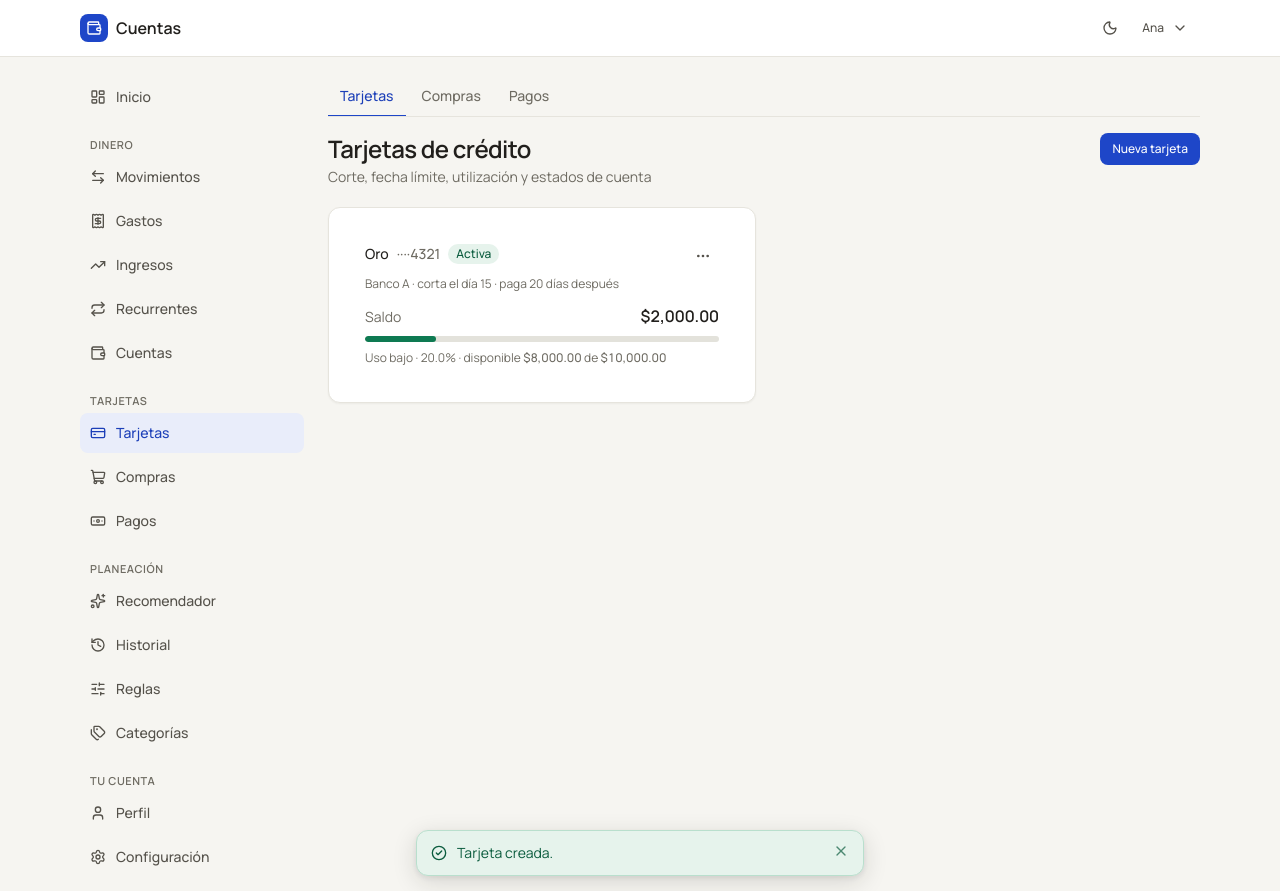
Test: tarjetas › reinicia una tarjeta con motivo y avisa el resultado
Click the button named "Más acciones de Oro" at (703, 256), box [687,240,719,272]
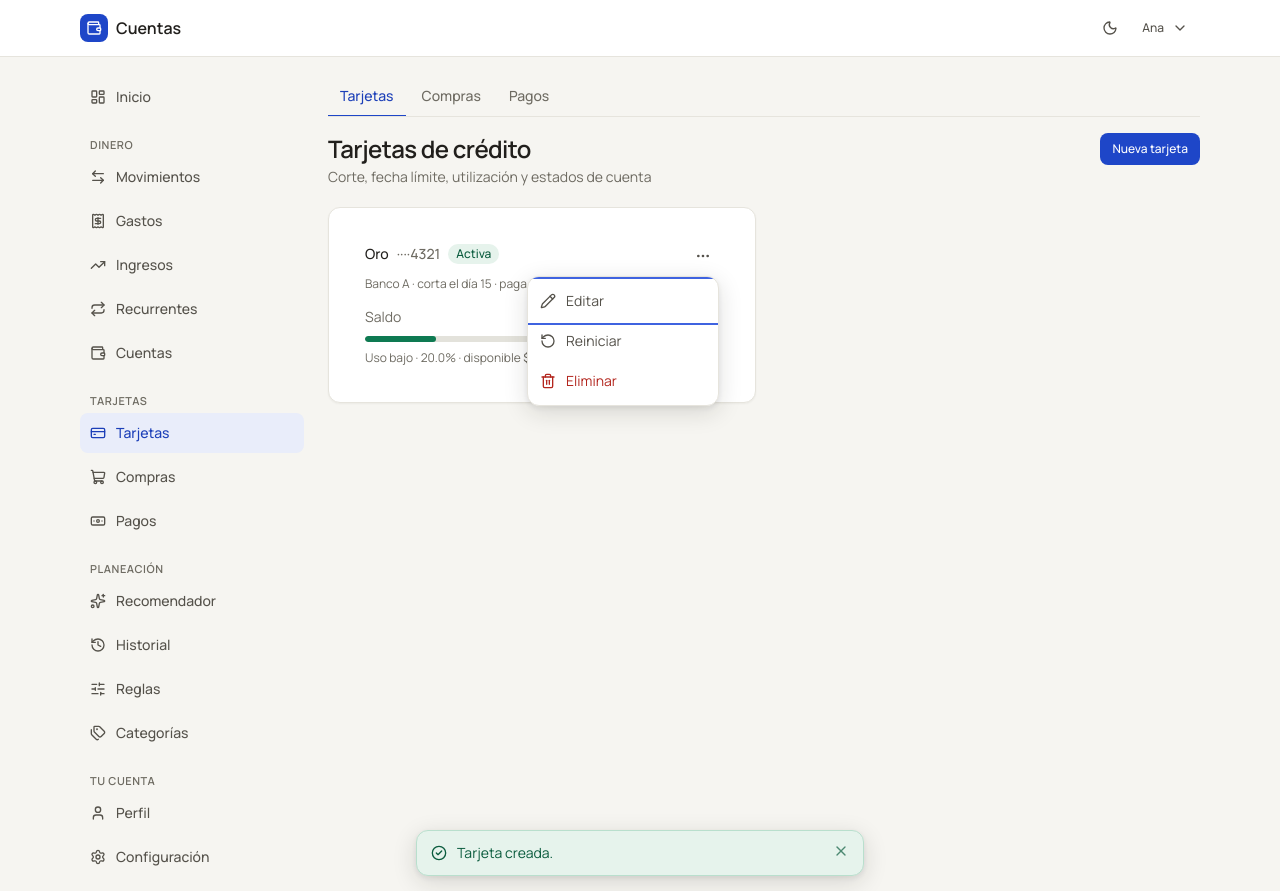
Click the menu item "Reiniciar" at (623, 341), box [528,321,718,361]
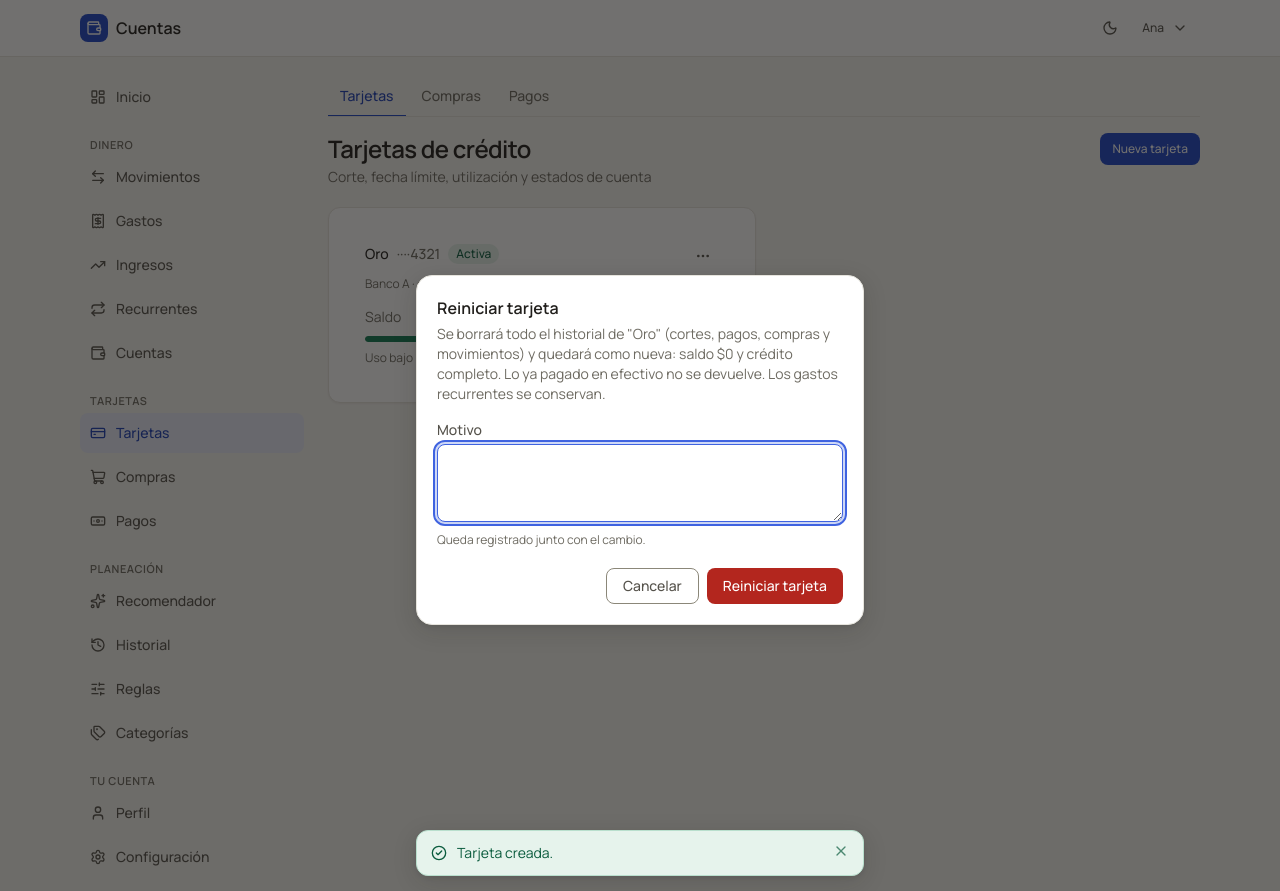
Check: the text "saldo $0 y crédito completo" is shown, box [437,324,838,403]
Type "Tarjeta de pruebas" into the text box labelled "Motivo" at (640, 483), box [437,444,843,522]
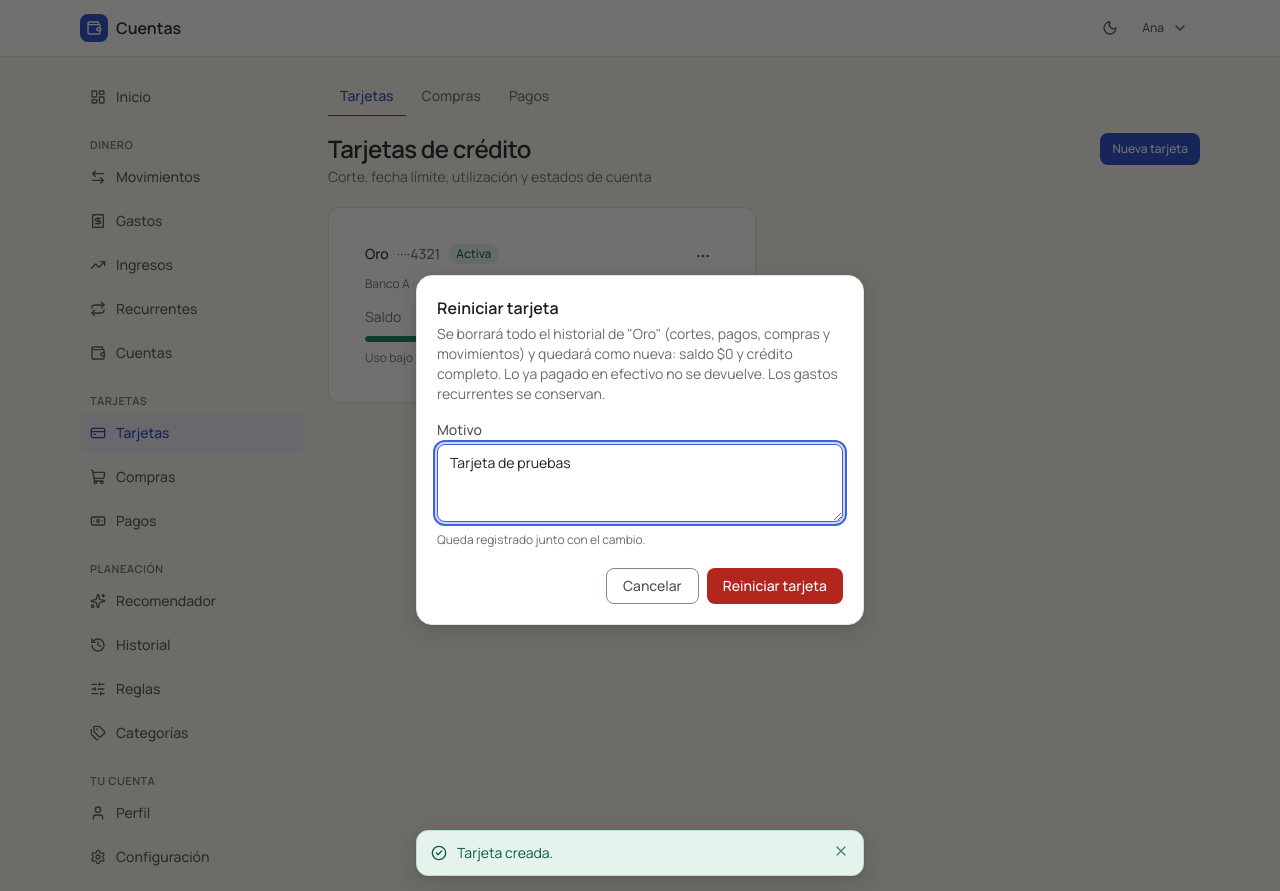
Click the button "Reiniciar tarjeta" at (775, 586), box [707,568,843,604]
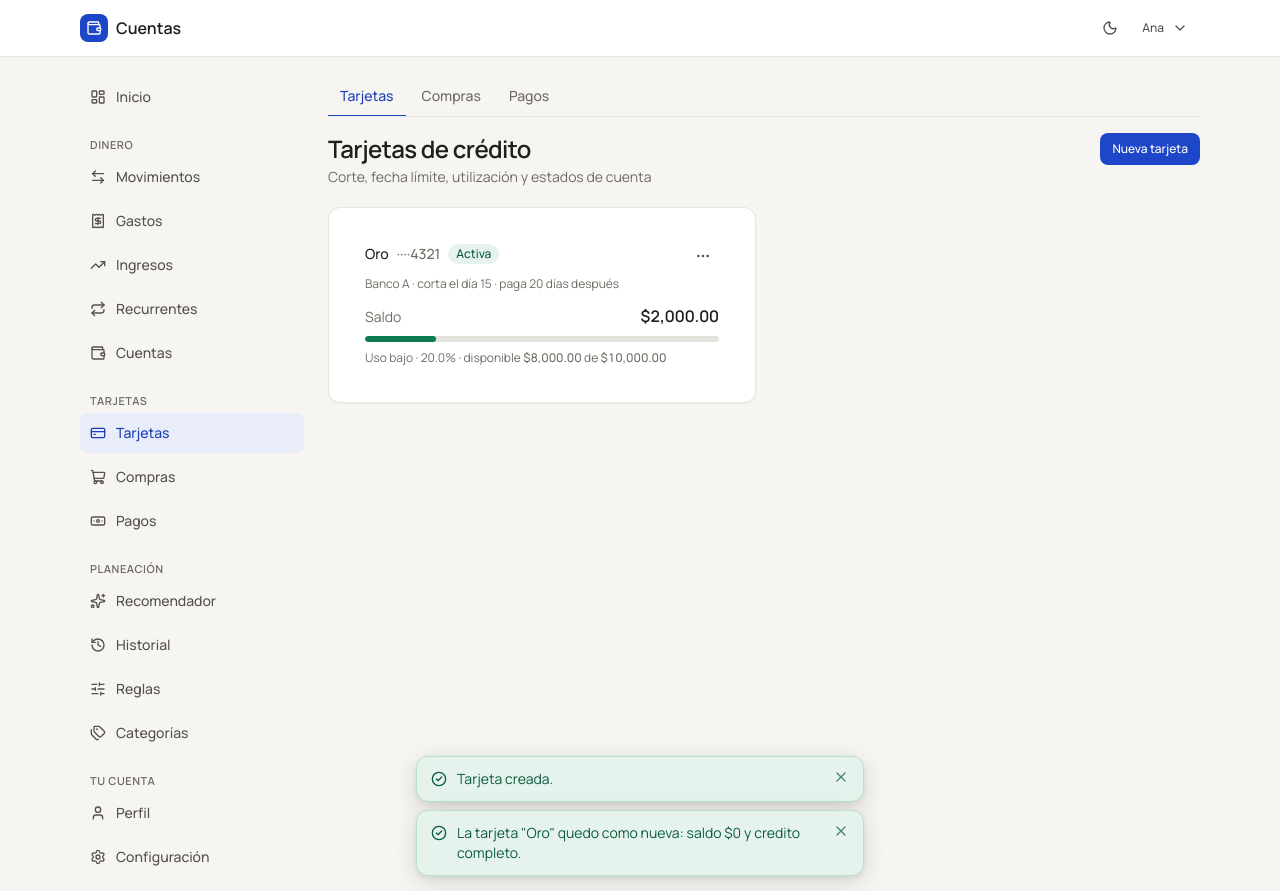
Check: the text "quedo como nueva" is shown, box [457,823,800,862]
